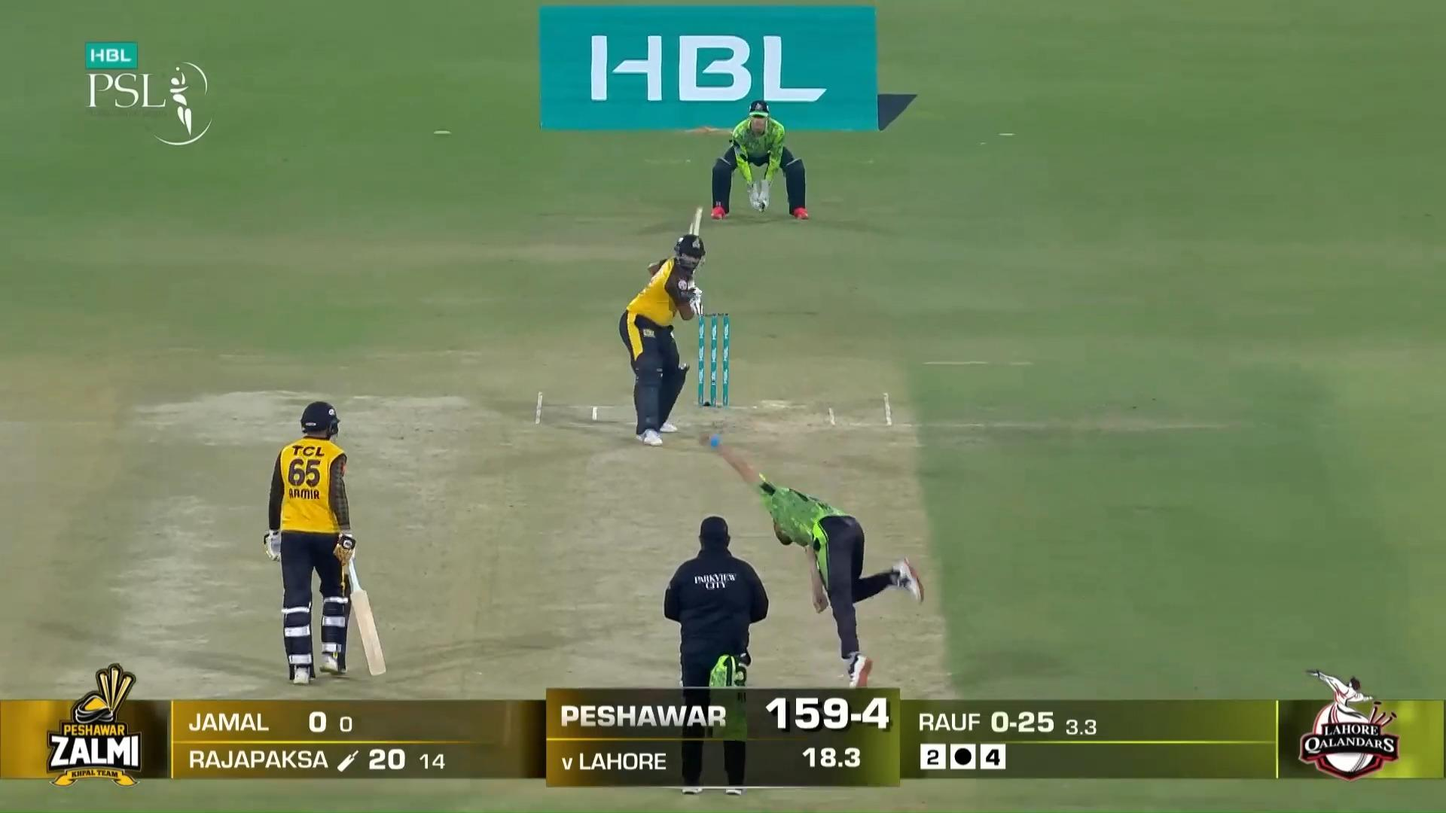batsman: (619, 206, 703, 448)
